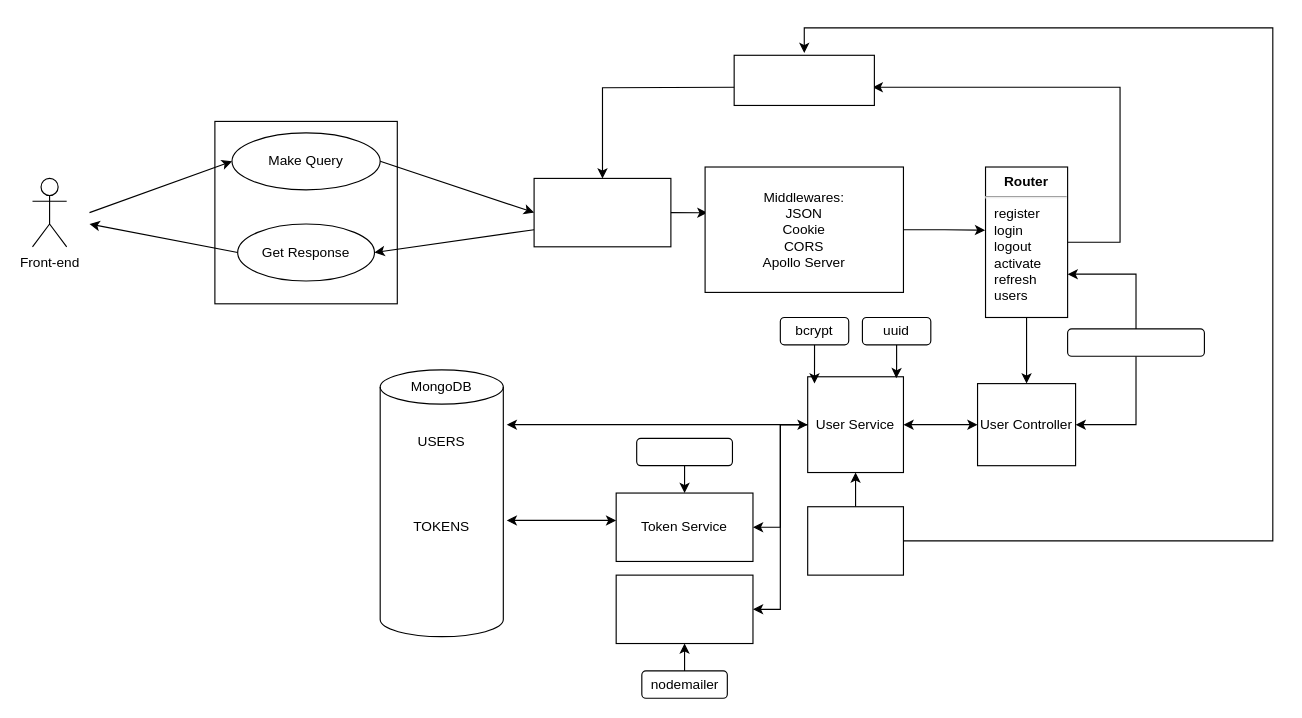
Image size: 1302x718. Some labels were removed from this diagram. Here are the shapes that lost their labels. From the top down, the box of each, then its label:
(733, 54, 874, 105): Error Middleware
(533, 177, 671, 247): Express
(1066, 328, 1204, 356): express-validator
(636, 437, 732, 466): jsonwebtoken
(807, 506, 903, 575): Exceptions
(615, 574, 753, 644): Mail Service
